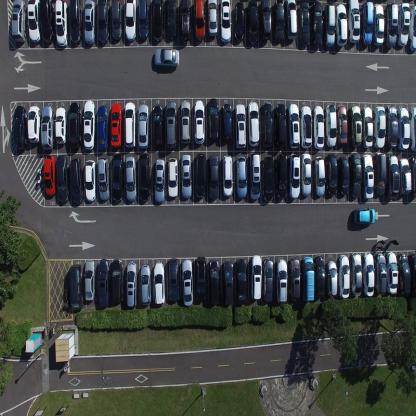car: (68, 263, 83, 311), (39, 0, 55, 44), (82, 99, 95, 151), (70, 156, 84, 204), (138, 152, 151, 203), (11, 0, 26, 44), (396, 253, 411, 297), (310, 0, 324, 47), (384, 2, 398, 48), (361, 252, 375, 298), (13, 105, 27, 150), (347, 0, 361, 45), (96, 0, 110, 45), (234, 102, 247, 150), (55, 0, 68, 48), (56, 154, 69, 202), (125, 261, 138, 309), (97, 257, 109, 309), (41, 105, 55, 149), (287, 102, 300, 149), (348, 104, 362, 147), (194, 152, 207, 198), (361, 153, 374, 199), (97, 156, 110, 202), (111, 258, 124, 304), (386, 154, 400, 196), (69, 101, 81, 150), (247, 101, 260, 146), (397, 2, 410, 47), (137, 102, 149, 150), (261, 100, 273, 148), (350, 152, 362, 200), (124, 100, 136, 148), (195, 255, 207, 303), (181, 258, 193, 306), (164, 0, 178, 41), (69, 0, 82, 44), (179, 99, 191, 146), (298, 0, 310, 47), (302, 255, 314, 302), (208, 259, 220, 306), (385, 104, 398, 147), (259, 0, 272, 43), (178, 0, 191, 43), (43, 154, 56, 197), (180, 154, 192, 200), (154, 158, 166, 204), (274, 102, 286, 148), (312, 104, 324, 150), (289, 256, 301, 302), (276, 258, 288, 304), (250, 254, 262, 300), (222, 260, 234, 306), (168, 256, 180, 302), (165, 100, 176, 150), (325, 152, 338, 194), (193, 100, 205, 145), (125, 156, 137, 201), (110, 103, 122, 148), (361, 1, 373, 46), (324, 3, 336, 48), (247, 0, 259, 45), (28, 0, 40, 45), (276, 153, 288, 198), (338, 253, 350, 298), (153, 261, 165, 306), (27, 104, 41, 142), (208, 152, 219, 200), (207, 97, 219, 141), (300, 106, 312, 150), (325, 104, 337, 148), (112, 153, 123, 201), (336, 2, 348, 46), (219, 0, 231, 44), (263, 154, 274, 202), (249, 152, 260, 200), (235, 155, 247, 199), (386, 250, 398, 294), (374, 252, 386, 296), (262, 258, 274, 302), (154, 47, 179, 68), (97, 104, 108, 151), (374, 152, 386, 195), (84, 159, 96, 202), (313, 256, 325, 299), (152, 104, 163, 150), (235, 258, 246, 304), (166, 157, 178, 199), (373, 106, 385, 148), (313, 155, 325, 197), (285, 0, 297, 42), (193, 0, 205, 42), (152, 0, 164, 42), (289, 153, 300, 198), (84, 0, 95, 45), (351, 252, 362, 297), (398, 157, 411, 195), (361, 106, 373, 147), (398, 107, 410, 148), (338, 154, 350, 195), (222, 154, 233, 198), (140, 263, 151, 307), (84, 258, 95, 302), (221, 103, 233, 143), (373, 3, 384, 46), (125, 0, 136, 43), (111, 0, 122, 42), (326, 260, 338, 298), (337, 105, 348, 146), (138, 0, 149, 41), (206, 0, 218, 37), (301, 152, 311, 196), (55, 106, 66, 145), (274, 0, 284, 42), (234, 1, 244, 43), (408, 5, 416, 52), (354, 207, 376, 224), (408, 155, 416, 197), (409, 106, 416, 152), (409, 252, 416, 297)
